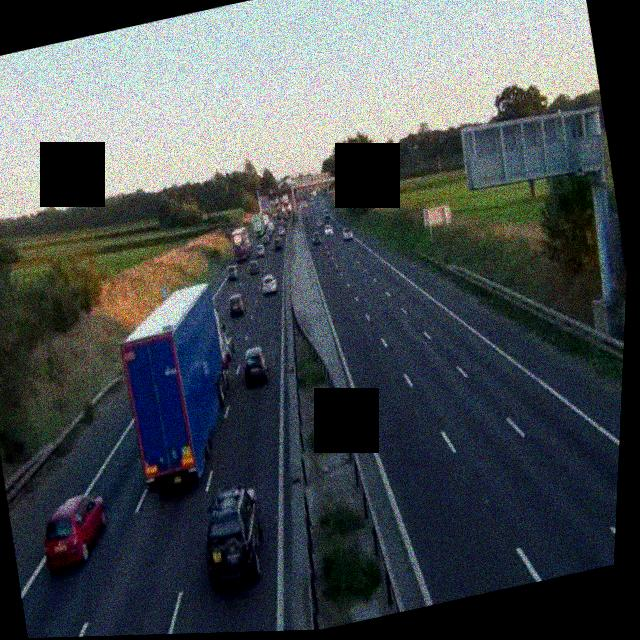car: (194, 483, 275, 590), (34, 490, 116, 573), (239, 345, 272, 387), (225, 291, 247, 318), (260, 271, 279, 295), (247, 258, 261, 275), (226, 264, 239, 282), (310, 231, 323, 247), (341, 225, 354, 241), (255, 241, 268, 256), (322, 222, 334, 237), (271, 237, 283, 251), (321, 210, 332, 223), (277, 224, 287, 237)
truck: (105, 279, 254, 495), (228, 225, 255, 264), (250, 211, 269, 240)
